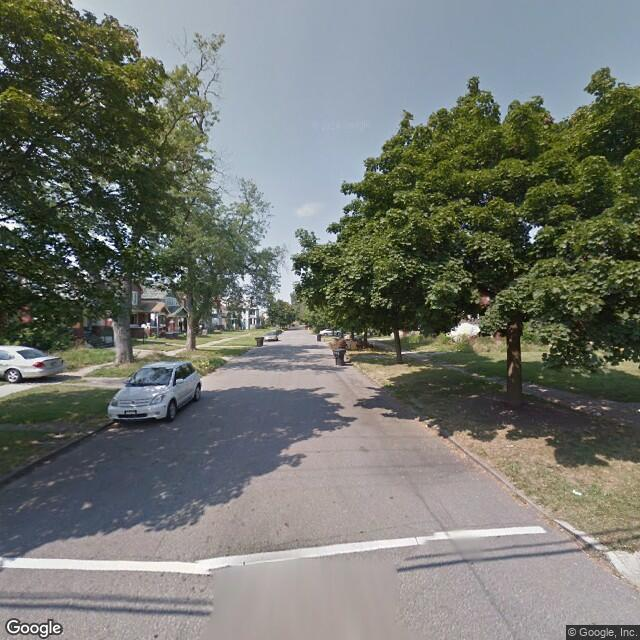litter: (572, 488, 583, 498), (42, 458, 55, 463)
